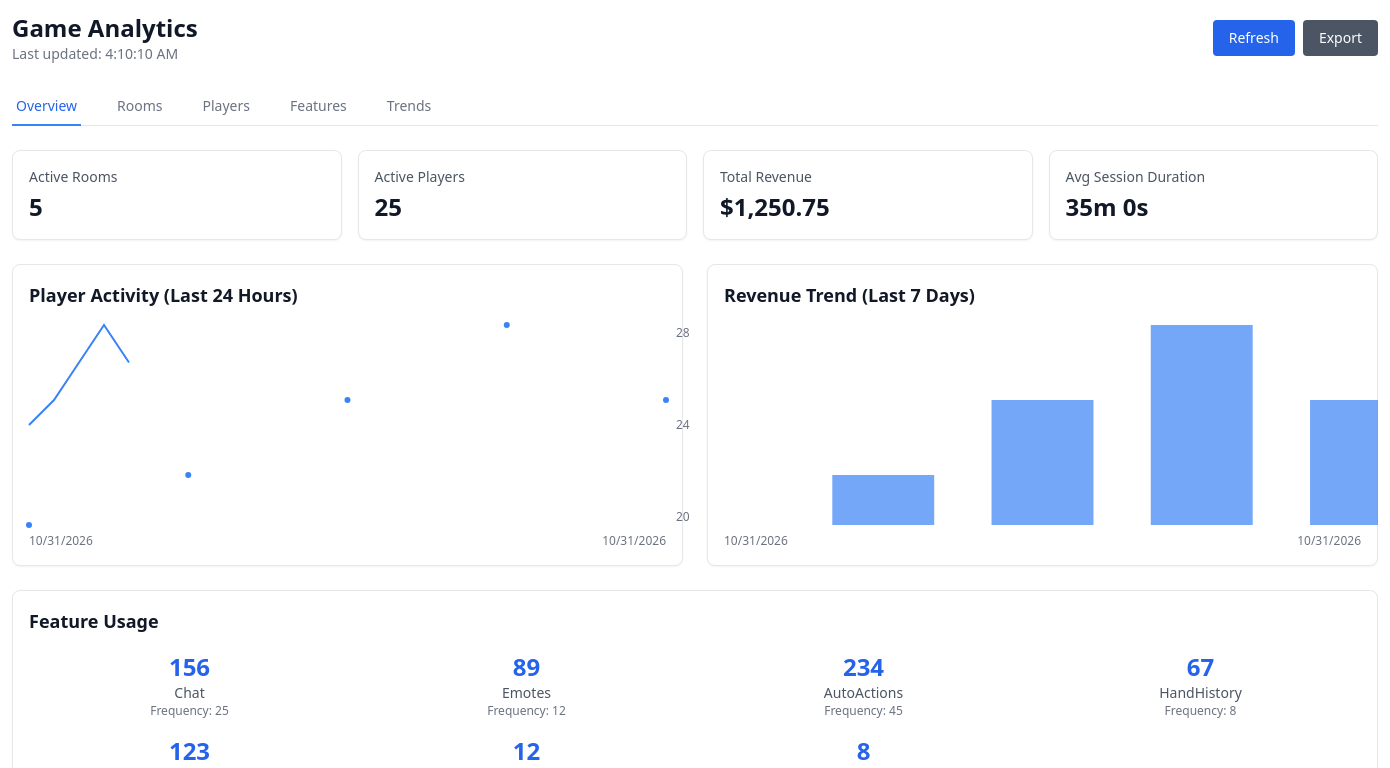
Test: GameAnalyticsDashboard › Players Tab Content › should display retention metrics
The width and height of the screenshot is (1390, 768).
Click the button "Players" at [226, 107], box [198,88,254,126]
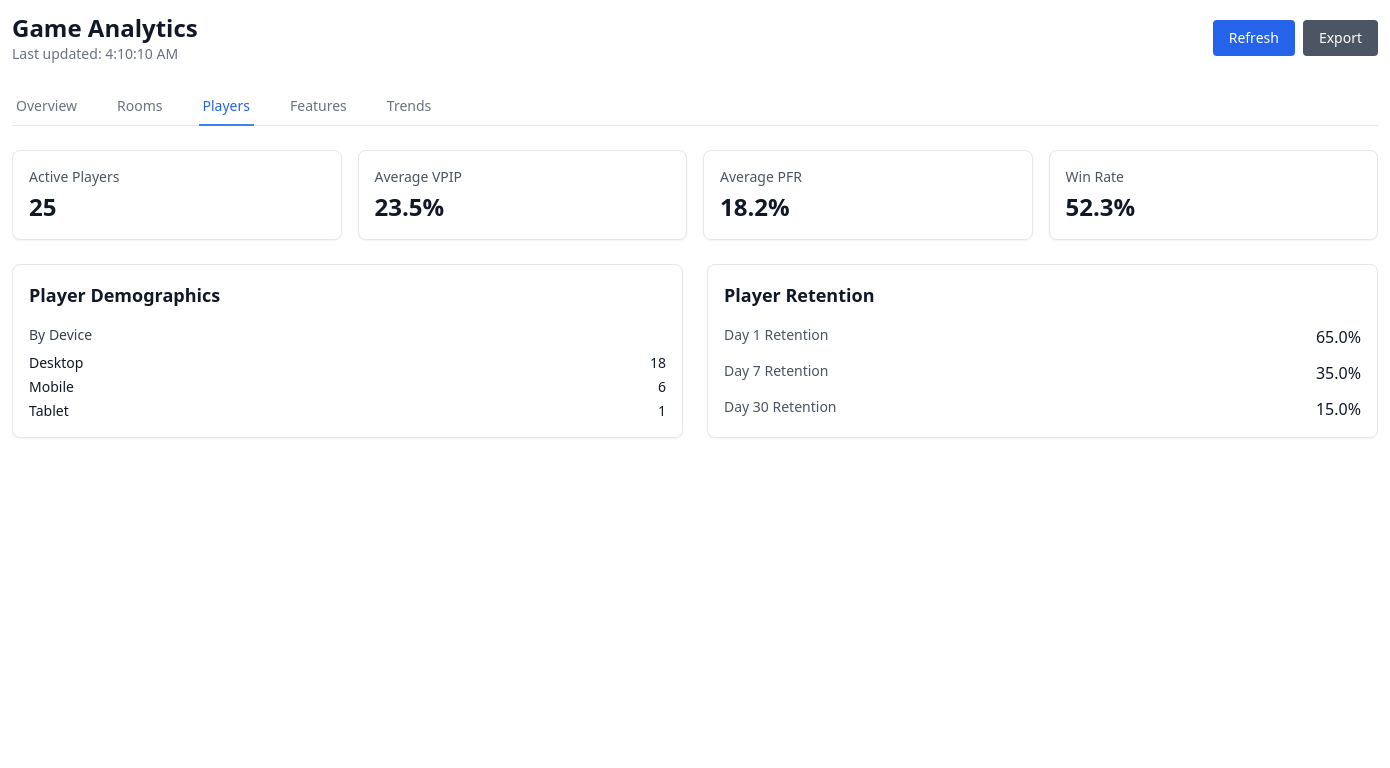
Expected: the heading "Player Retention" is shown, [724,283,874,307]
Expected: the text "Day 1 Retention" is shown, [724,325,828,349]
Expected: the text "65.0%" is shown, [1316,325,1361,349]
